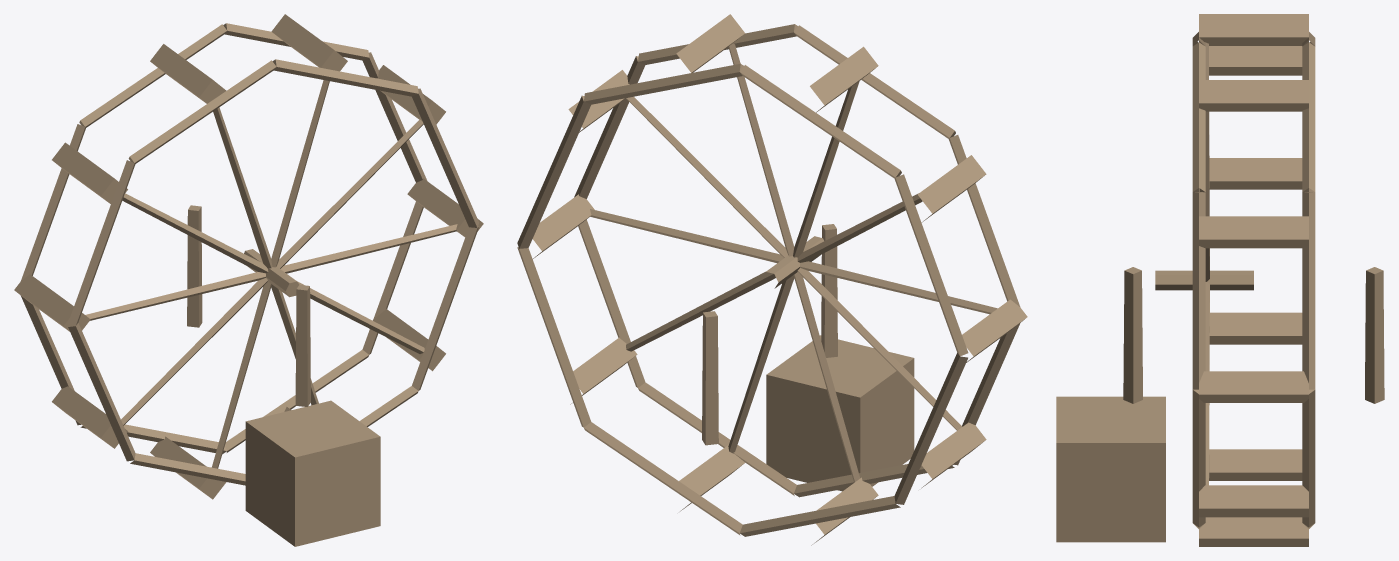
File: water_wheel.glb
3 renders of one model, left to right at view 1: azimuth 30°, elevation 25°; view 2: azimuth 150°, elevation 25°; view 3: azimuth 270°, elevation 25°, orthographic. The views are drawn at different scales.
Visible parts, largest first — view 1: lod0; view 2: lod0; view 3: lod0.
Part boxes in pixels (x1,y1,x2,y2): lod0: [14, 14, 483, 546]; lod0: [517, 14, 1027, 545]; lod0: [1056, 14, 1384, 546].
Size of what is drawn, in the model's own units: 4.92 by 4.81 by 2.99.
